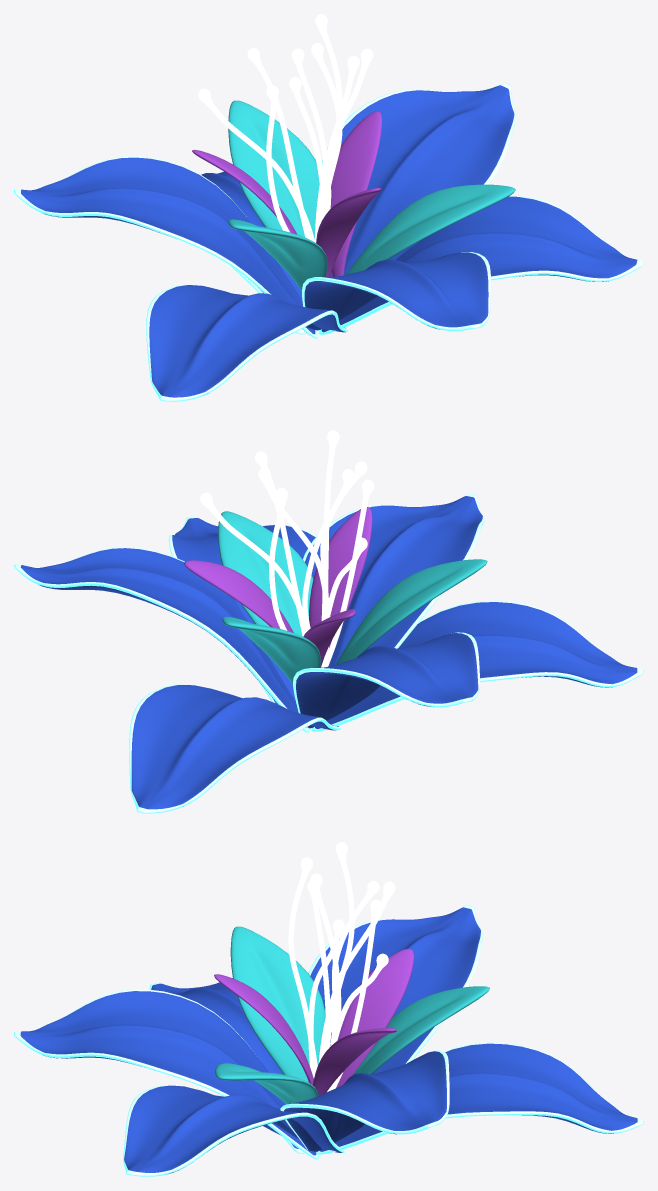
File: glowingflower2.glb
3 views of the same model, one above another, from view 1: azimuth 30°, elevation 25°; view 2: azimuth 150°, elevation 25°; view 3: azimuth 270°, elevation 25° (orthographic). The views are drawn at different scales.
Parts seen in each view (by area): view 1: Glowing Flower; view 2: Glowing Flower; view 3: Glowing Flower.
Boxes of the visible parts, <box> form: Glowing Flower: <box>14,14,643,401</box>; Glowing Flower: <box>14,430,643,813</box>; Glowing Flower: <box>14,842,643,1176</box>.
Size of the model in its own units: 9.3 by 5.31 by 10.6.
